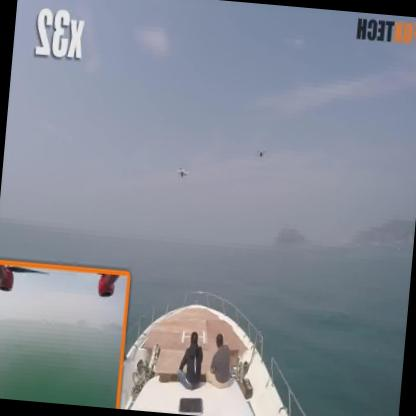drone: (173, 160, 193, 183)
